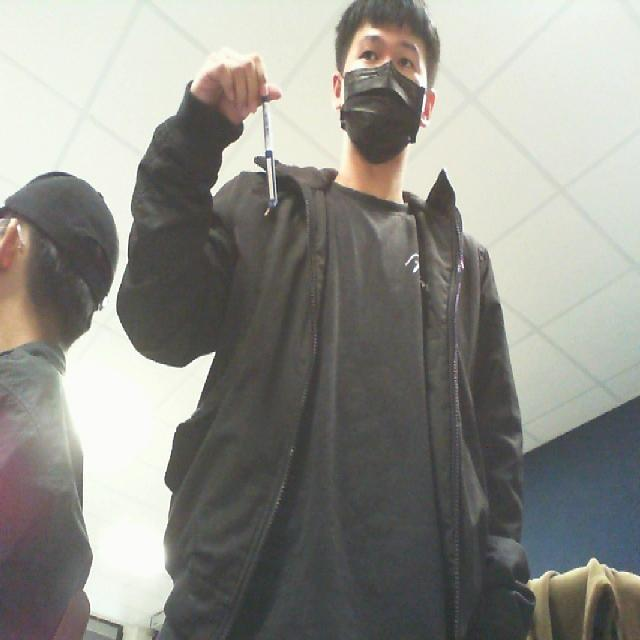Pen: (247, 79, 296, 238)
